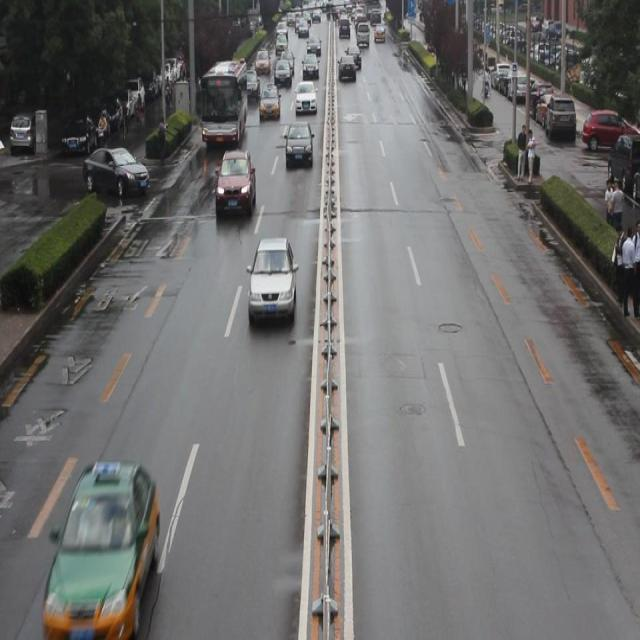car: (44, 458, 159, 632), (247, 239, 297, 325), (83, 145, 149, 201), (214, 148, 256, 218), (284, 121, 314, 166), (259, 84, 279, 120)
van: (202, 60, 246, 143)
